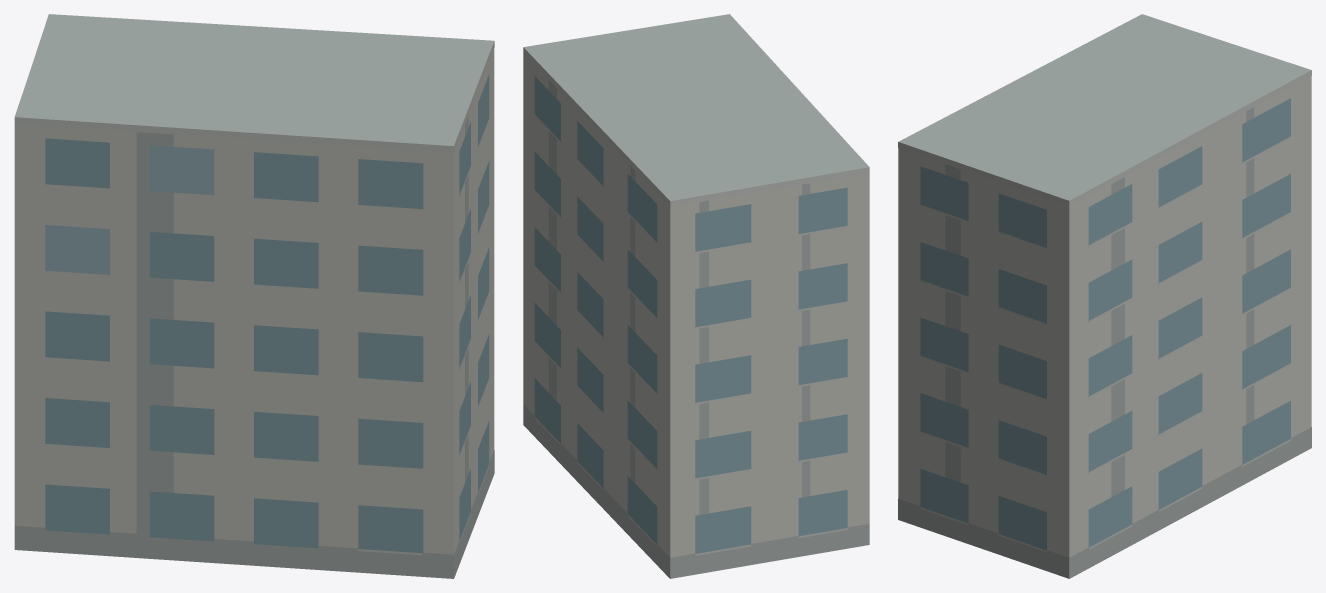
File: residential-8bd247d4-e704-499d-acd0-33ce0498410f.glb
3 renders of one model, left to right at view 1: azimuth 30°, elevation 25°; view 2: azimuth 150°, elevation 25°; view 3: azimuth 270°, elevation 25°, orthographic. The views are drawn at different scales.
Parts seen in each view (by area): view 1: residential-8bd247d4-e704-499d-acd0-33ce0498410f.tmp; view 2: residential-8bd247d4-e704-499d-acd0-33ce0498410f.tmp; view 3: residential-8bd247d4-e704-499d-acd0-33ce0498410f.tmp.
Boxes of the visible parts, x1,y1,x2,y2 form: residential-8bd247d4-e704-499d-acd0-33ce0498410f.tmp: (14, 14, 494, 578); residential-8bd247d4-e704-499d-acd0-33ce0498410f.tmp: (523, 14, 869, 578); residential-8bd247d4-e704-499d-acd0-33ce0498410f.tmp: (898, 14, 1311, 578).
Bounding box in the file's own units: 16.17 × 15.25 × 15.13.
